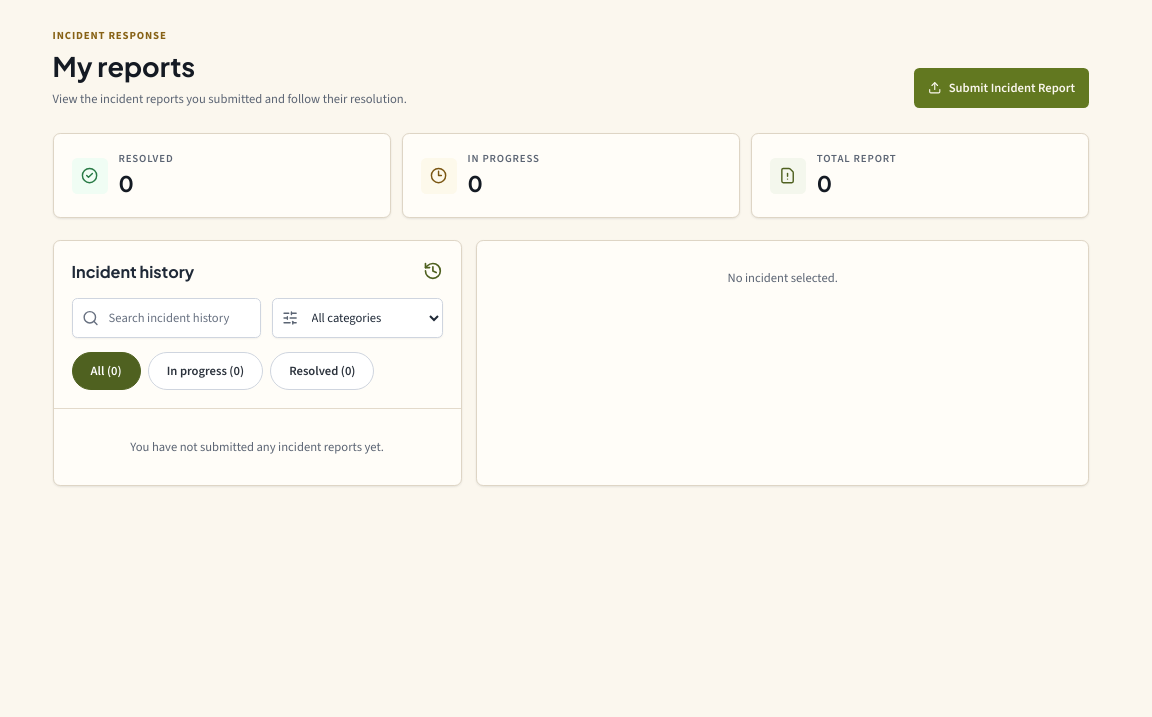
live incident workspace resilience › opens on My reports and redirects to a separate submission page only when requested
Expected: the heading "My reports" is shown, [53,49,195,83]
Expected: the field labelled "Eligible event *" is not shown
Click the button "Submit Incident Report".
click(1002, 88)  # box [914,68,1089,108]
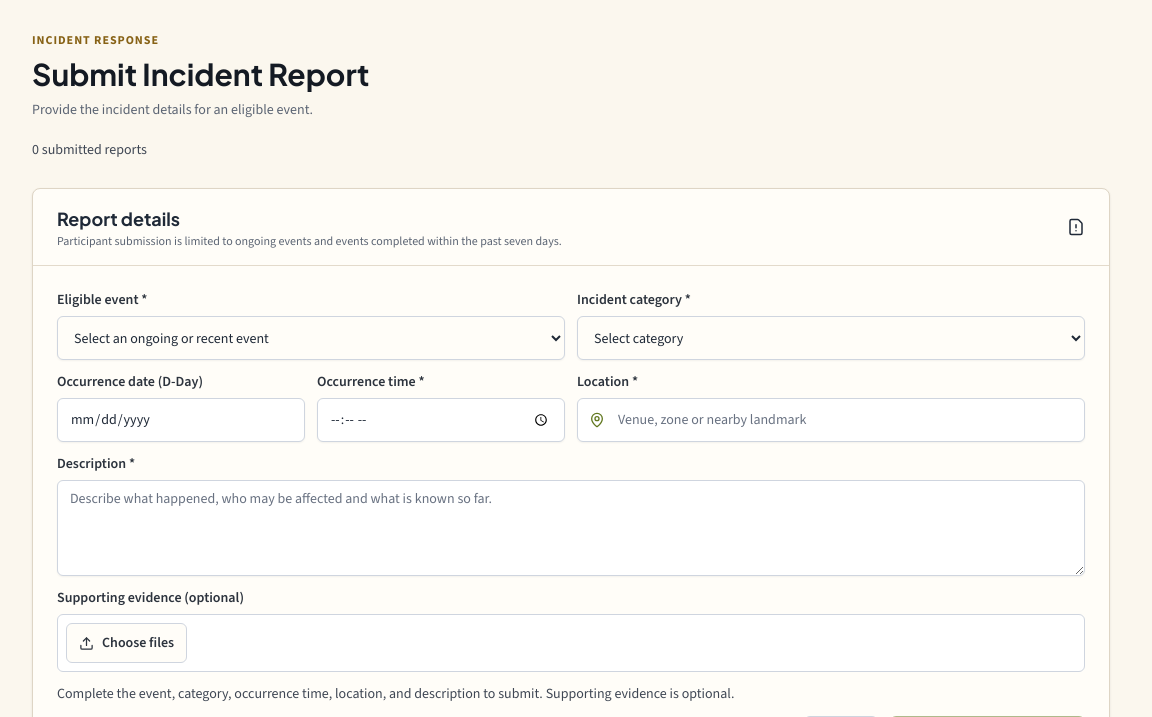
Now the heading "Submit Incident Report" is shown, box [32,56,370,92]
Now the dropdown labelled "Eligible event *" shows "Select an ongoing or recent event", box [57,316,565,360]
Now the dropdown labelled "Incident category *" shows "Select category", box [577,316,1085,360]
